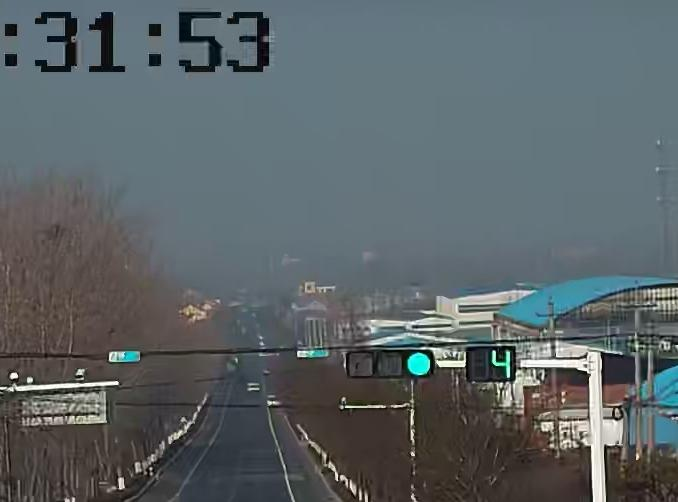green: (404, 350, 433, 375)
greentime: (488, 349, 517, 382)
